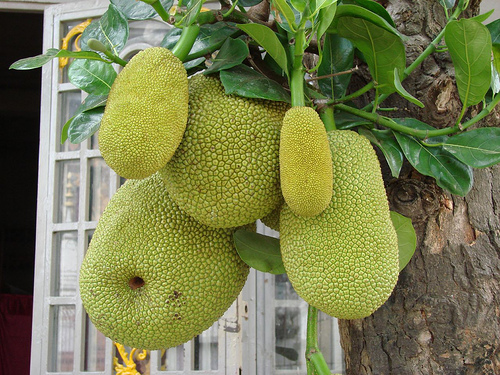jackfruit: (78, 170, 259, 351), (279, 130, 403, 319), (158, 67, 289, 229), (98, 47, 187, 179), (277, 107, 333, 219)
